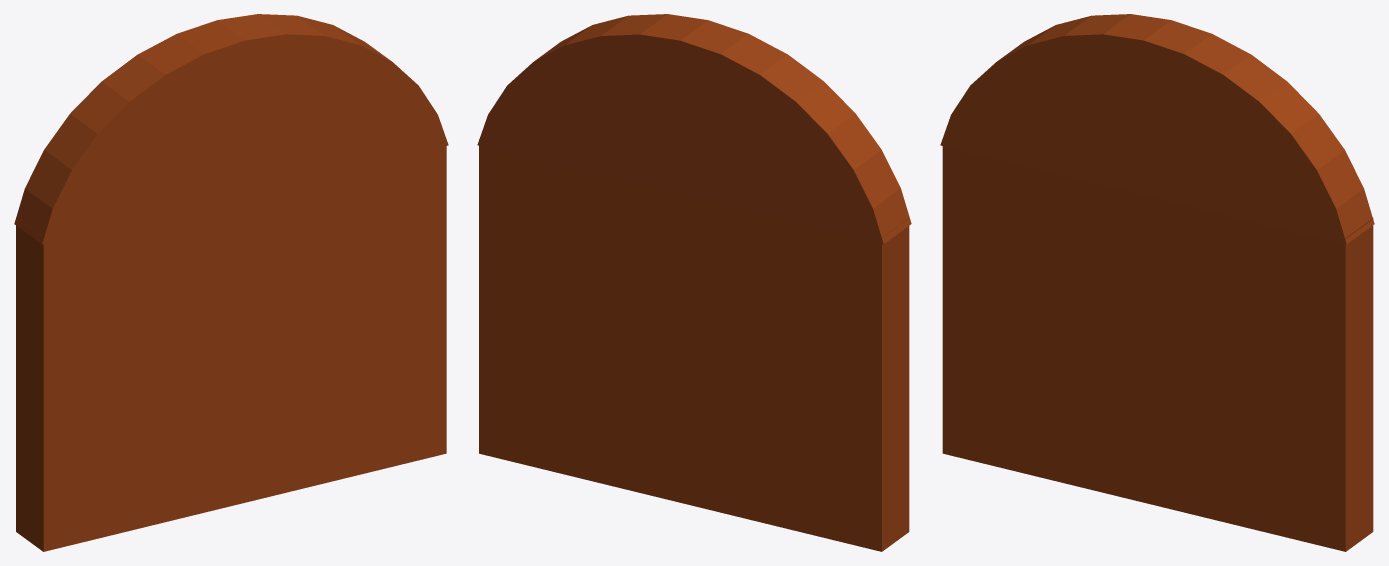
The model's file is Porta.fbx.
3 renders of one model, left to right at view 1: azimuth 30°, elevation 25°; view 2: azimuth 150°, elevation 25°; view 3: azimuth 330°, elevation 25°, orthographic.
Parts seen in each view (by area): view 1: Cube.002; view 2: Cube.002; view 3: Cube.002.
Part boxes in pixels (bbox=[...]): Cube.002: bbox=[14, 14, 448, 551]; Cube.002: bbox=[477, 14, 911, 551]; Cube.002: bbox=[940, 14, 1374, 551].
Bounding box in the file's own units: 1346 × 1464 × 161.
